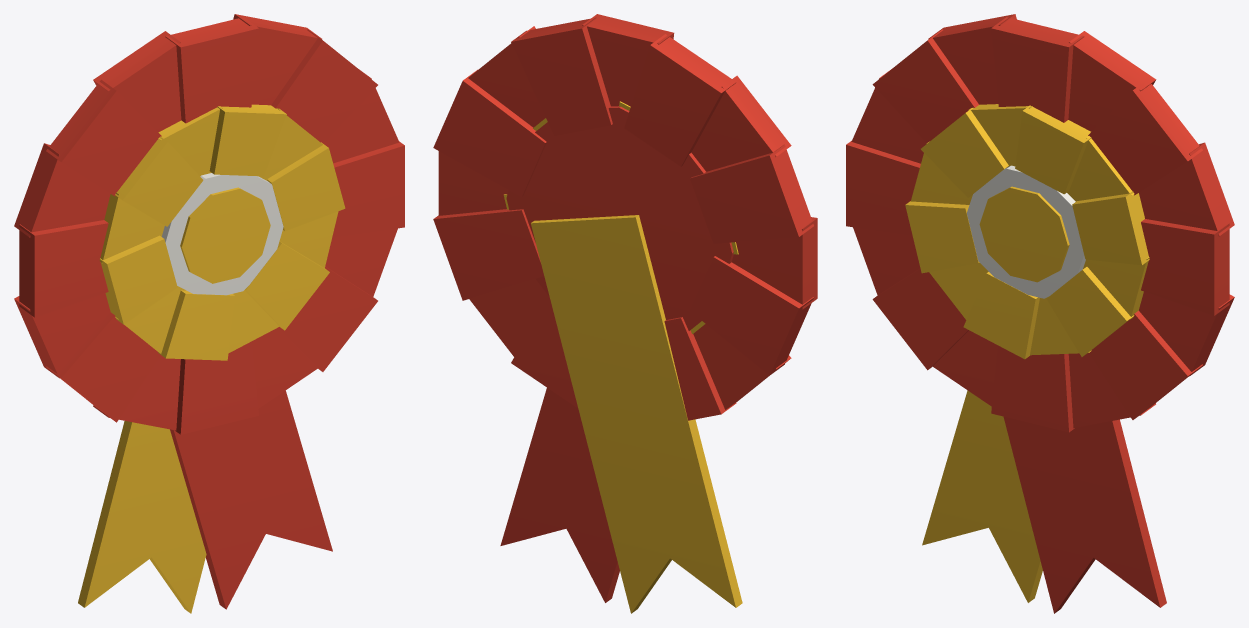
Rendered from SM_Rosette.glb.
3 views of the same model, side by side, from view 1: azimuth 30°, elevation 25°; view 2: azimuth 150°, elevation 25°; view 3: azimuth 330°, elevation 25° (orthographic).
Visible parts, largest first — view 1: SM_Rosette; view 2: SM_Rosette; view 3: SM_Rosette.
Part boxes in pixels (left/top/right/bottom): SM_Rosette: left=14, top=14, right=404, bottom=613; SM_Rosette: left=433, top=14, right=817, bottom=613; SM_Rosette: left=846, top=14, right=1234, bottom=613.
Size of the model in its own units: 0.402 by 0.602 by 0.0497.
Materials: 1 (1 with a texture image).
